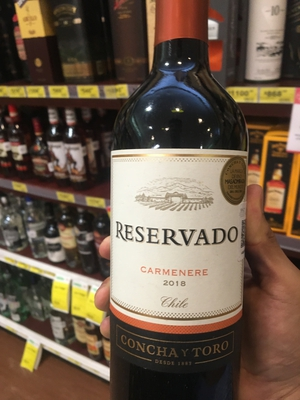reservado carmenere: (110, 2, 250, 400)
